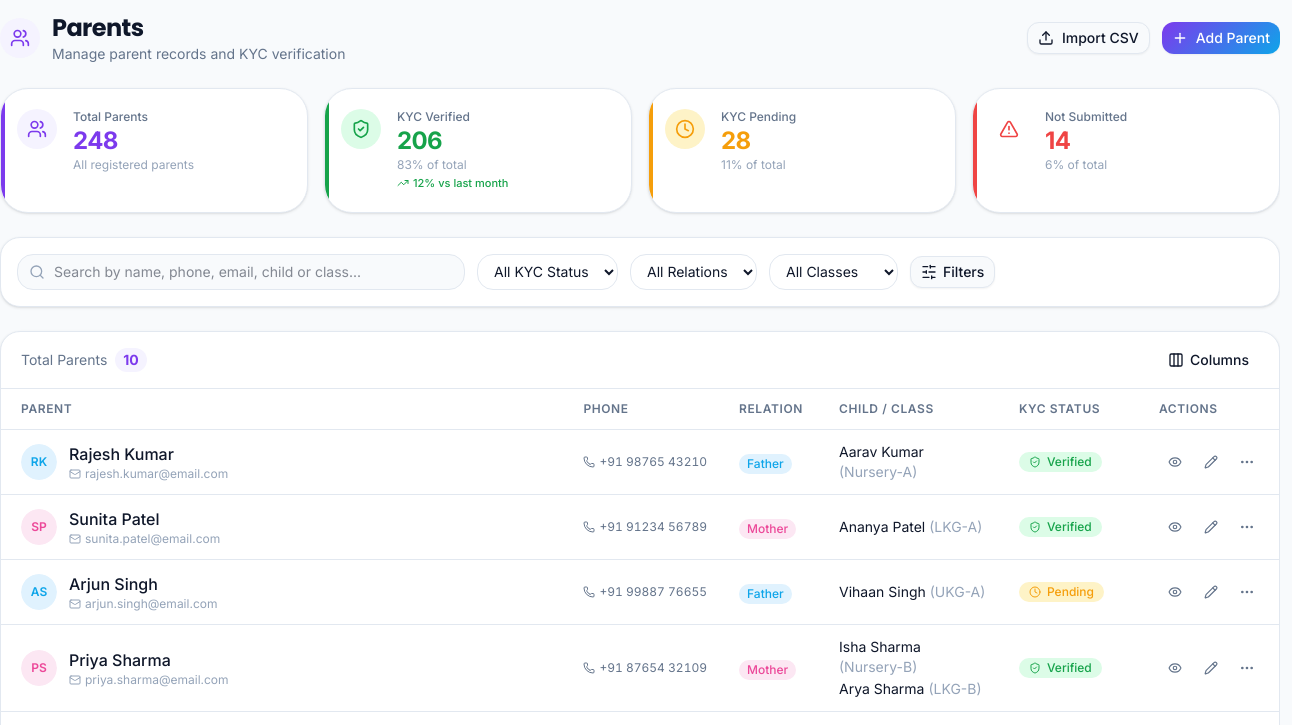
Test: ParentsListPage › Filter Bar › filters by KYC status dropdown
Select "Pending" in the 1st dropdown showing "All KYC Status". click: (548, 272)
box: [477,254,618,290]
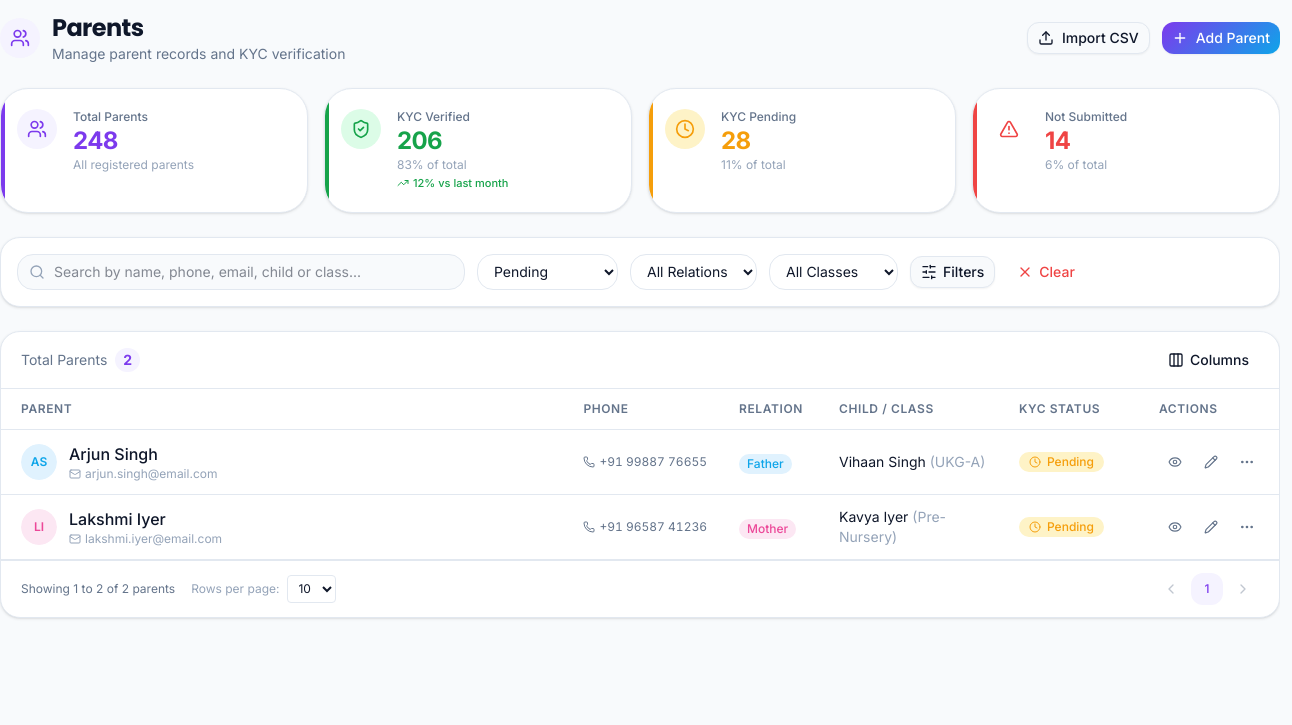
expect the text "Arjun Singh" is shown: met, box [69,444,158,464]
expect the text "Rajesh Kumar" is gone: met
